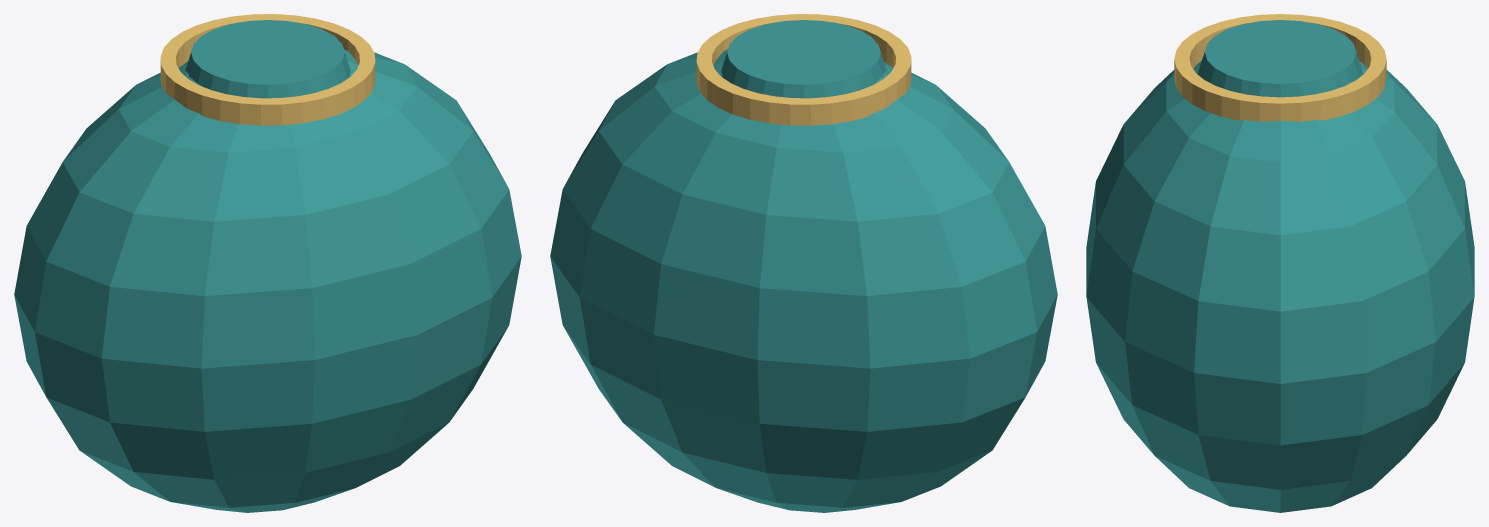
The model's file is tabletop-game-components-draw-bag-0fb18c84__20887.glb.
3 renders of one model, left to right at view 1: azimuth 30°, elevation 25°; view 2: azimuth 150°, elevation 25°; view 3: azimuth 270°, elevation 25°, orthographic.
Visible parts, largest first — view 1: draw-bag; view 2: draw-bag; view 3: draw-bag.
Boxes of the visible parts, x1,y1,x2,y2 form: draw-bag: (14,14,521,512); draw-bag: (550,14,1057,512); draw-bag: (1086,14,1474,512).
Size of the model in its own units: 0.07 by 0.0635 by 0.0512.
